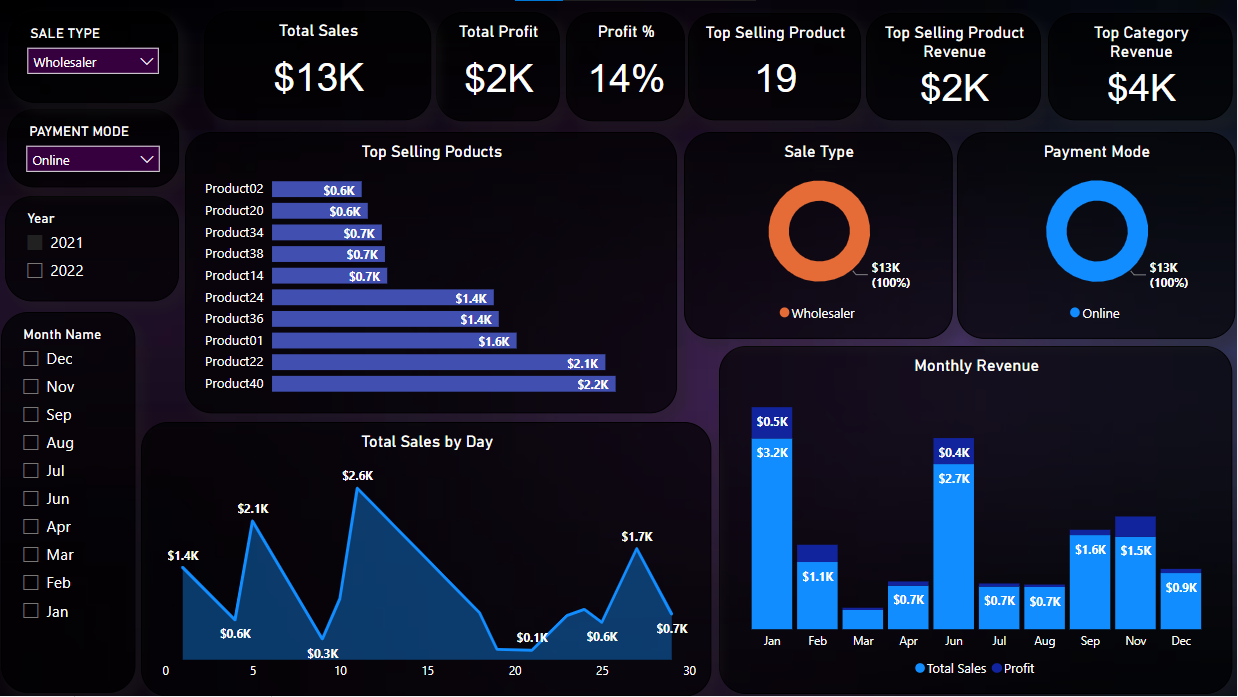

The page's visual inventory and layout, read from the dashboard file:
{"tool":"powerbi","page":{"name":"Dashboard","canvas":[1280,720],"ordinal":0},"visuals":[{"type":"slicer","fields":{"Values":["InputData.Year"]},"box":[5,202.5,180,108.8],"z":0},{"type":"slicer","fields":{"Values":["InputData.Month Name"]},"box":[1.2,322.5,138.8,393.8],"z":1000},{"type":"slicer","fields":{"Values":["InputData.PAYMENT MODE"]},"box":[7.5,112.5,177.5,81.2],"z":2000},{"type":"slicer","fields":{"Values":["InputData.SALE TYPE"]},"box":[8.5,11.2,176.2,95],"z":3000},{"type":"card","title":"Total Profit","fields":{"Values":["Sum(InputData.Total Profit)"]},"box":[451.2,12.5,127.5,112.5],"z":4000},{"type":"card","title":"Profit %","fields":{"Values":["InputData.Profit %"]},"box":[585,12.5,122.5,112.5],"z":5000},{"type":"card","title":"Total Sales","fields":{"Values":["Sum(InputData.Total Sales)"]},"box":[211.2,11.2,235,112.5],"z":6000},{"type":"card","title":"Top Selling Product","fields":{"Values":["Sum(InputData.QUANTITY)"]},"box":[711.2,13.8,178.8,111.2],"z":7000},{"type":"columnChart","title":"Monthly Revenue","fields":{"Category":["InputData.Month Name"],"Y":["Sum(InputData.Total Sales)","InputData.Profit"]},"box":[743.8,357.5,531.2,360],"z":8000},{"type":"card","title":"Top Selling Product Revenue","fields":{"Values":["Sum(InputData.Total Sales)"]},"box":[896.2,13.8,181.2,111.2],"z":9000},{"type":"barChart","title":"Top Selling Poducts","fields":{"Category":["InputData.MasterData.PRODUCT"],"Y":["Sum(InputData.Total Sales)"]},"box":[191.2,136.2,508.8,291.2],"z":10000},{"type":"card","title":"Top Category Revenue","fields":{"Values":["Sum(InputData.Total Sales)"]},"box":[1083.8,13.8,191.2,111.2],"z":11000},{"type":"donutChart","title":"Sale Type","fields":{"Y":["Sum(InputData.Total Sales)"],"Category":["InputData.SALE TYPE"]},"box":[707.5,136.2,277.5,213.8],"z":12000},{"type":"donutChart","title":"Payment Mode","fields":{"Y":["Sum(InputData.Total Sales)"],"Category":["InputData.PAYMENT MODE"]},"box":[990,136.2,287.5,213.8],"z":13000},{"type":"areaChart","fields":{"Category":["InputData.Day"],"Y":["Sum(InputData.Total Sales)"]},"box":[146.2,436.2,590,283.8],"z":14000}]}

Visuals, with their boxes in screenshot pixels (x1, y1, x2, y2), scaled from the page's 1280x720 canvas onto the 1238x697 screenshot:
slicer - InputData.Year: rect(5, 196, 179, 301)
slicer - InputData.Month Name: rect(1, 312, 135, 693)
slicer - InputData.PAYMENT MODE: rect(7, 109, 179, 188)
slicer - InputData.SALE TYPE: rect(8, 11, 179, 103)
"Total Profit" card: rect(436, 12, 560, 121)
"Profit %" card: rect(566, 12, 684, 121)
"Total Sales" card: rect(204, 11, 432, 120)
"Top Selling Product" card: rect(688, 13, 861, 121)
"Monthly Revenue" columnChart: rect(719, 346, 1233, 695)
"Top Selling Product Revenue" card: rect(867, 13, 1042, 121)
"Top Selling Poducts" barChart: rect(185, 132, 677, 414)
"Top Category Revenue" card: rect(1048, 13, 1233, 121)
"Sale Type" donutChart: rect(684, 132, 953, 339)
"Payment Mode" donutChart: rect(958, 132, 1236, 339)
areaChart - InputData.Day x Sum(InputData.Total Sales): rect(141, 422, 712, 696)
